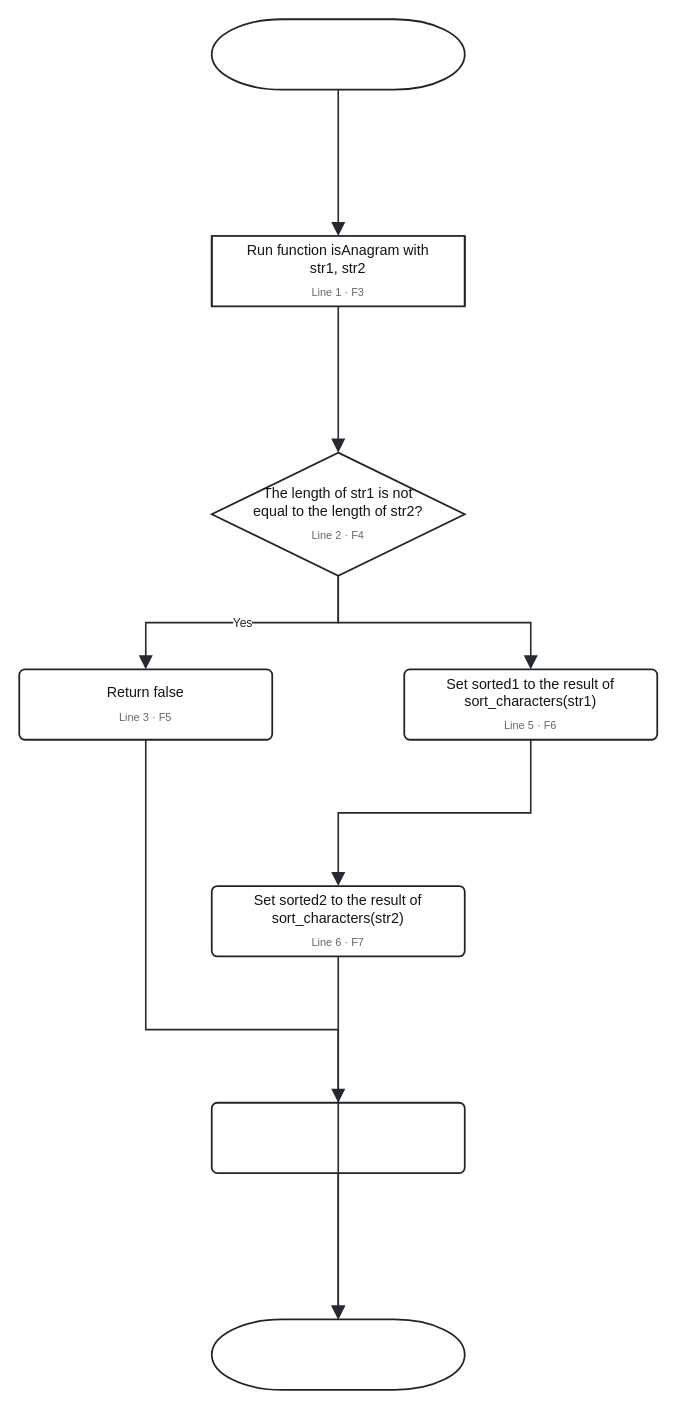
This 678x1410 diagram has some shape labels left out. The shapes that lost their labels are listed below. From the top down, each one's box as (x1, y1, x2, y2) in pixels, then its label:
(210, 18, 465, 90): Start Line 1 · F1
(210, 1101, 465, 1173): Return sorted1 is equal to sorted2 Line 7 · F8
(210, 1318, 465, 1390): End Line 1 · F2
